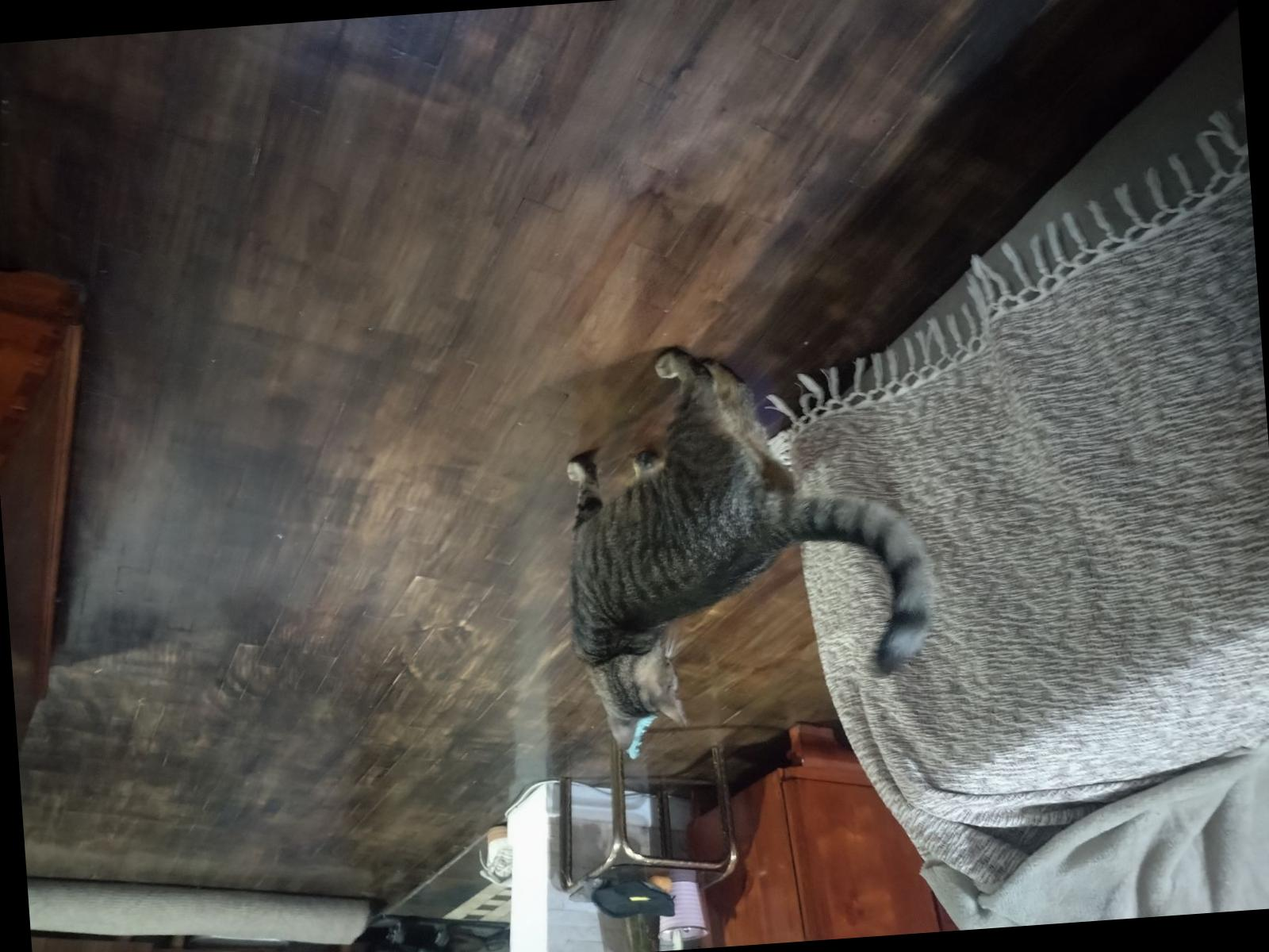macka: (548, 322, 951, 761)
